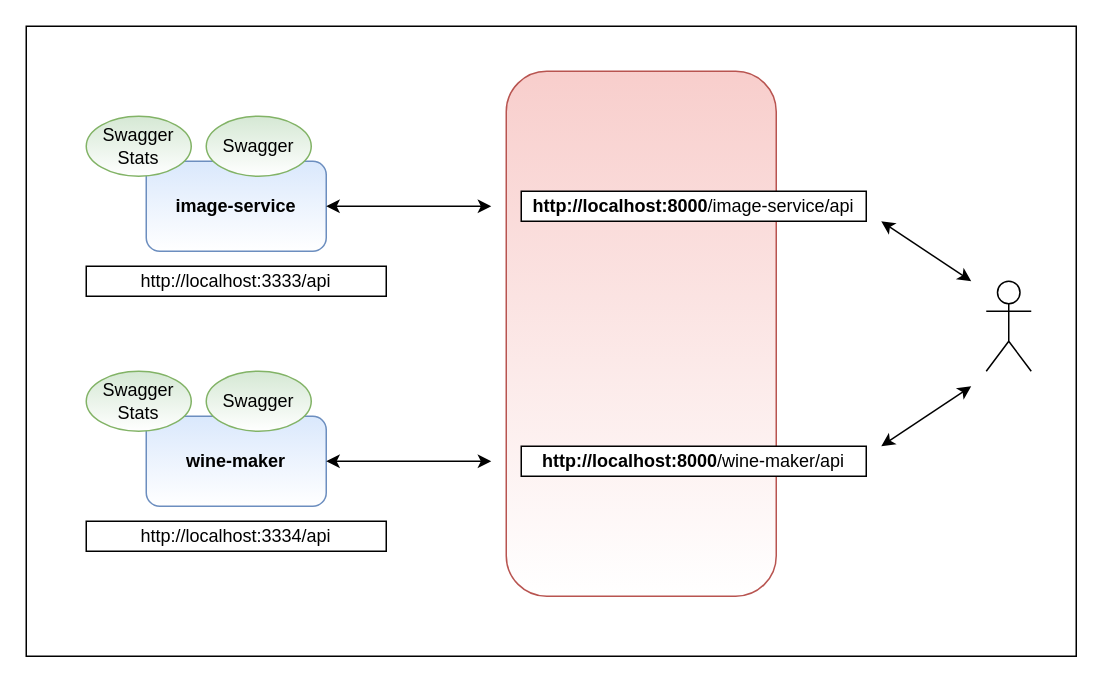
Some shapes in this 1103 by 683 pixel diagram are drawn without their labels. The box of each missing label's shape, as (x1, y1, x2, y2) in pixels:
Actor: (985, 280, 1031, 371)
Kong Gateway: (505, 70, 776, 596)
